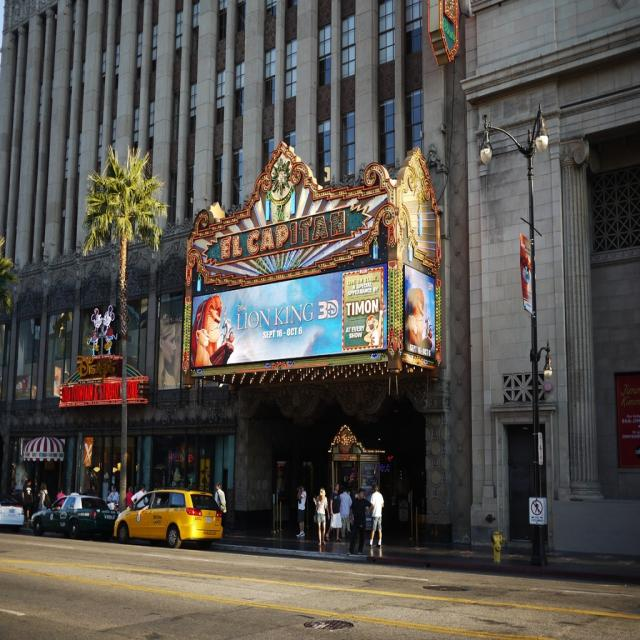car: (115, 483, 223, 547)
